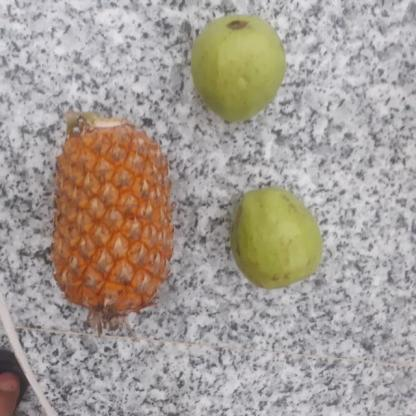guava: (186, 14, 292, 124), (226, 187, 324, 287)
pineapple: (50, 103, 173, 322)
